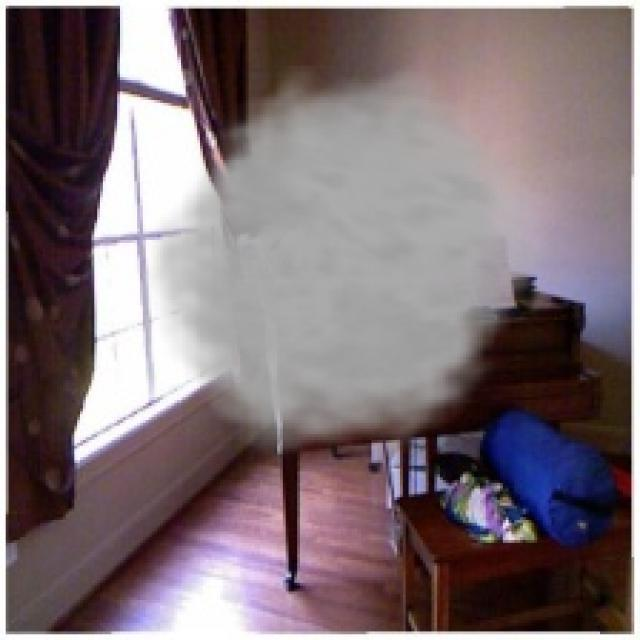Smoke: (137, 66, 557, 472)
